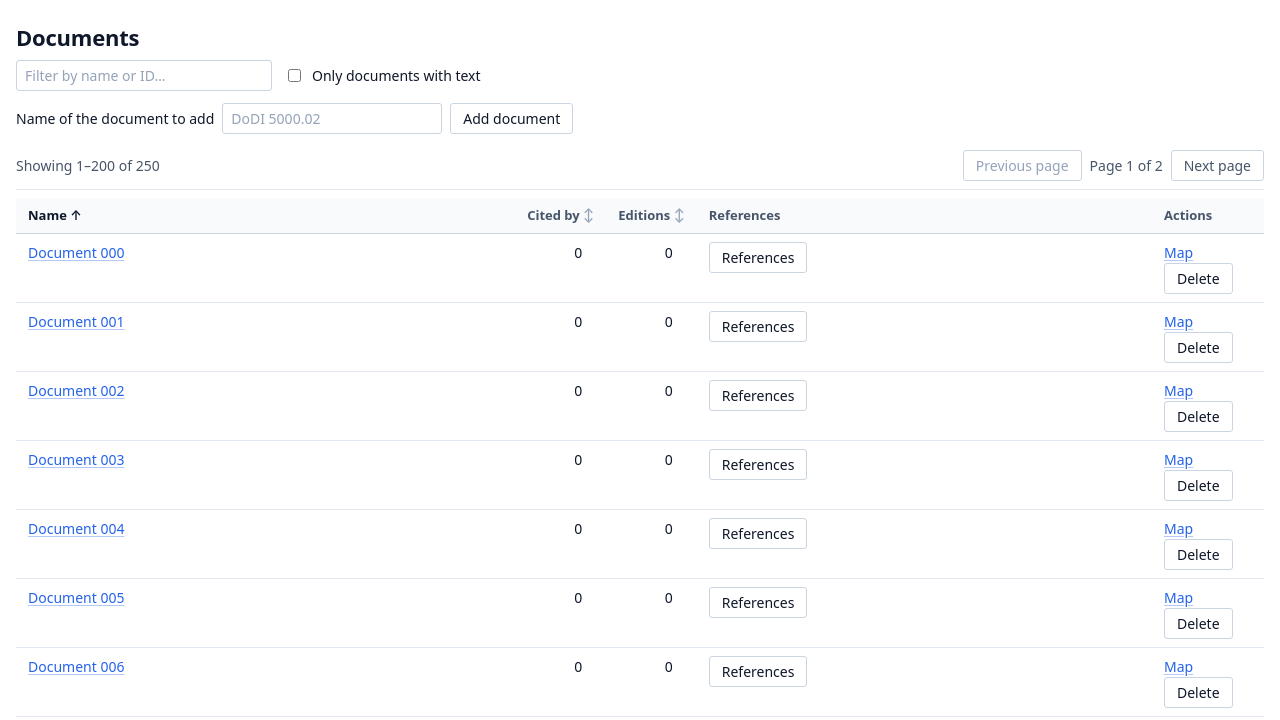
Test: DocumentTable paging › reaches the rows past the first page
expect the link "Document 000" is shown: met, box [28, 243, 124, 262]
Click the button "Next page".
click(1217, 165)  # box [1171, 150, 1264, 180]
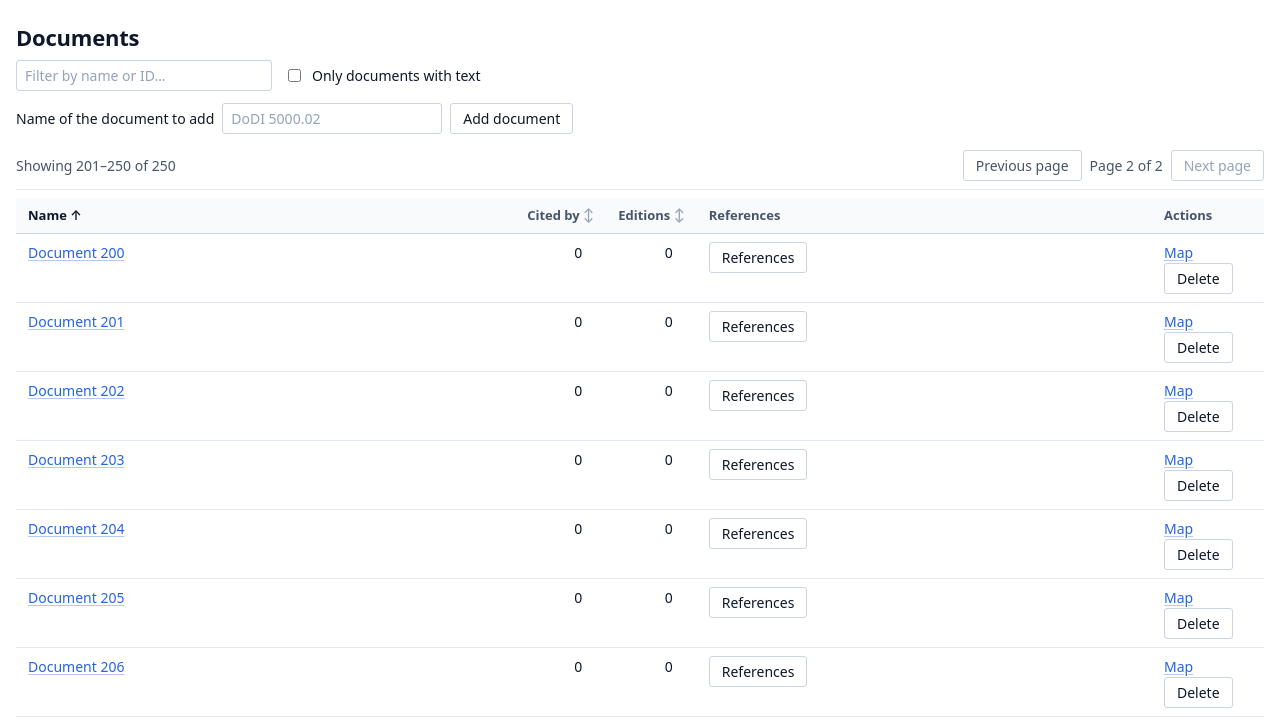
expect the link "Document 000" is gone: met
expect the text "Showing 201–250 of 250" is shown: met, box [16, 154, 176, 176]
